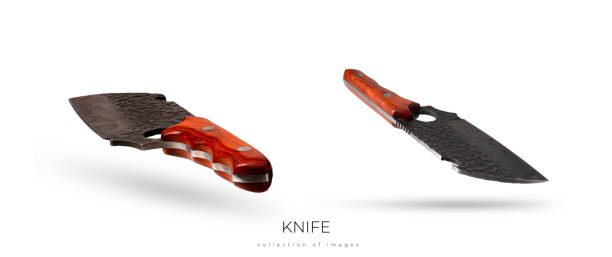knife: (341, 66, 550, 186), (66, 91, 275, 195)
